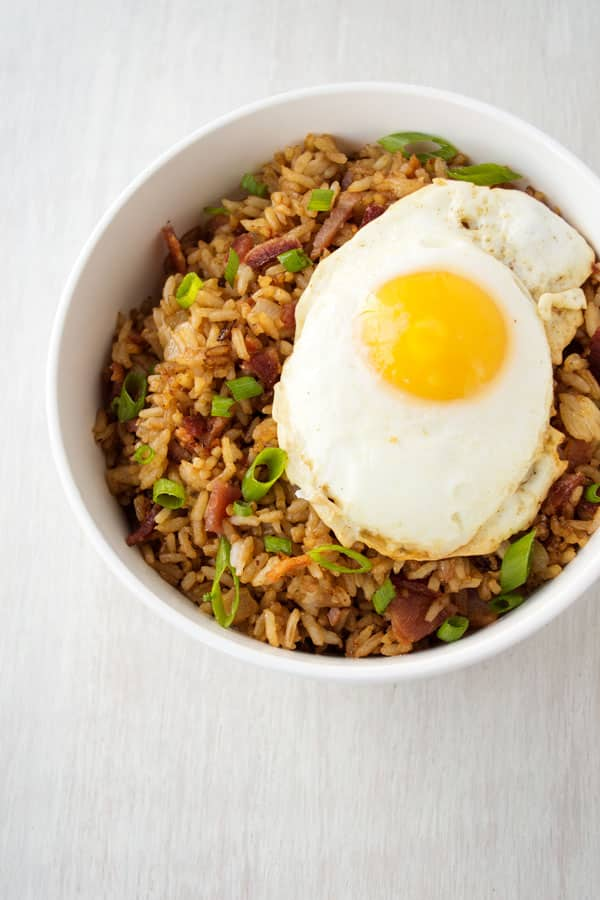fried egg: (319, 223, 564, 475)
plain rice: (136, 151, 318, 619)
